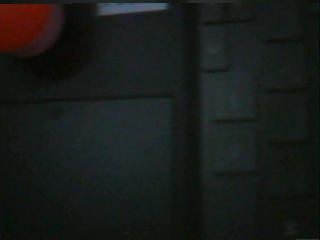oball: (0, 3, 51, 55)
